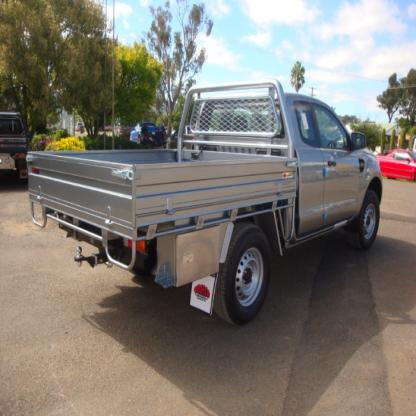light_vehicle: (26, 75, 408, 330)
